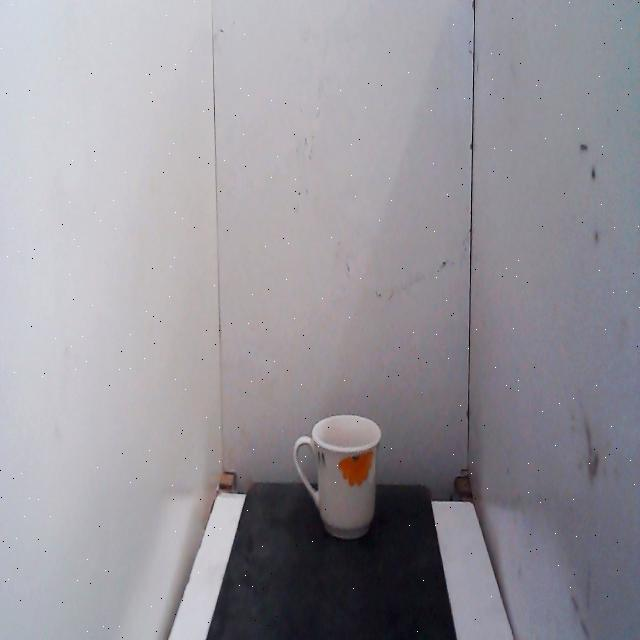vidro: (290, 406, 386, 554)
